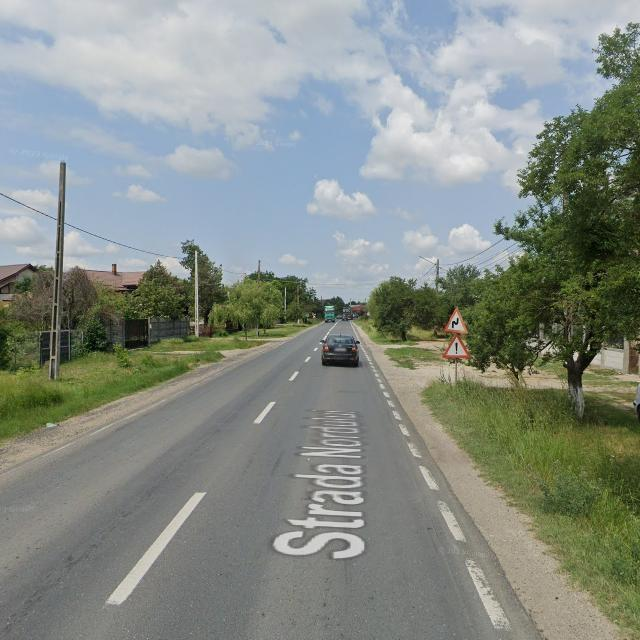warn_double_curve: (444, 309, 468, 334)
